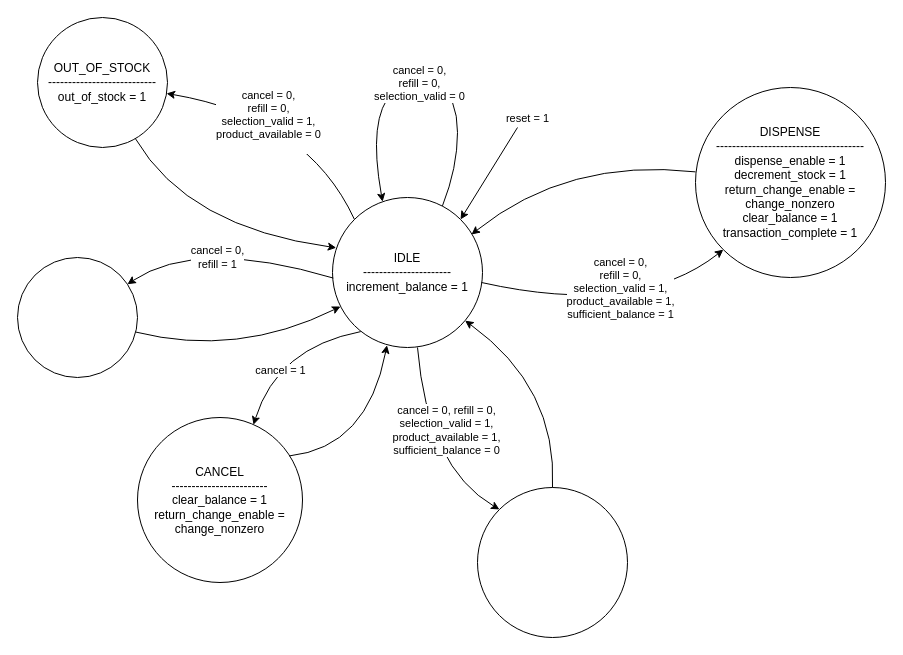
This 903x655 diagram has some shape labels left out. The centre of each missing label's shape, as x and y in pixels:
INSUFFICIENT --------------------------- insufficient_balance = 1: the point at 552,562
REFILL ------------------ refill_stock = 1: the point at 77,317
